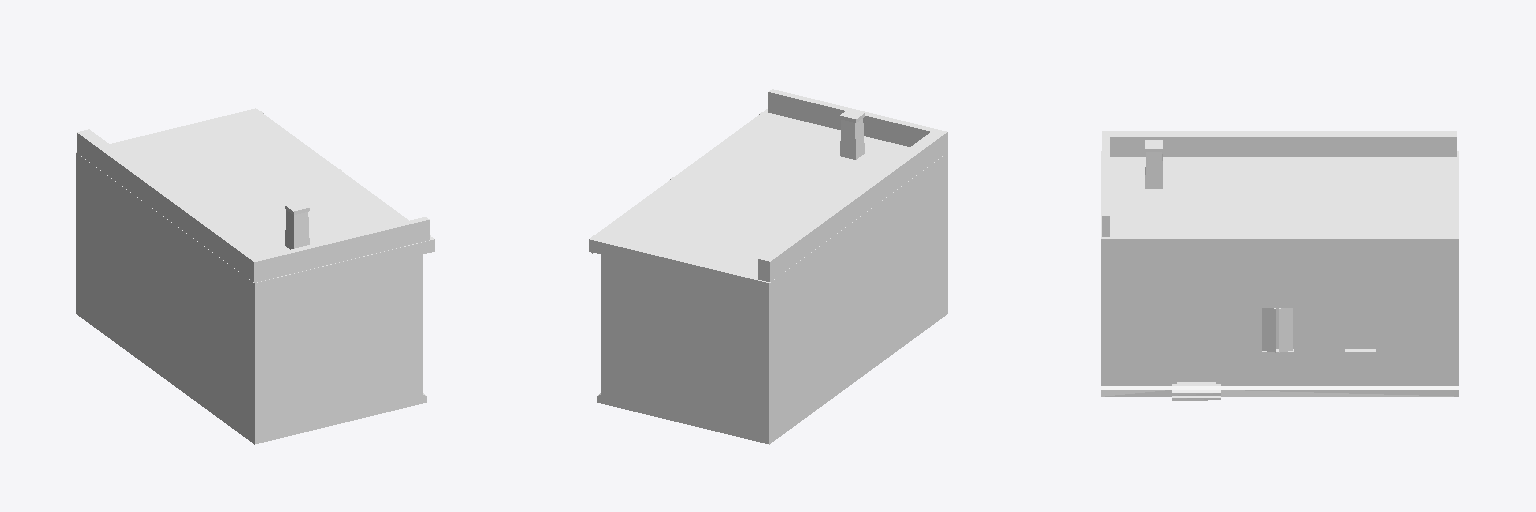
Rendered from BuildingY.obj.
3 views of the same model, side by side, from view 1: azimuth 30°, elevation 25°; view 2: azimuth 150°, elevation 25°; view 3: azimuth 270°, elevation 25° (orthographic).
Parts seen in each view (by area): view 1: BuildingY; view 2: BuildingY; view 3: BuildingY.
Part boxes in pixels (bbox=[...]): BuildingY: bbox=[76, 108, 434, 444]; BuildingY: bbox=[589, 89, 947, 444]; BuildingY: bbox=[1101, 131, 1458, 400].
Size of the model in its own units: 207 by 220 by 353.